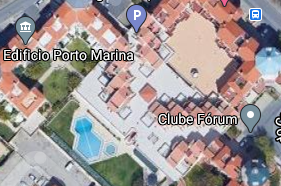pool: (75, 120, 103, 160)
